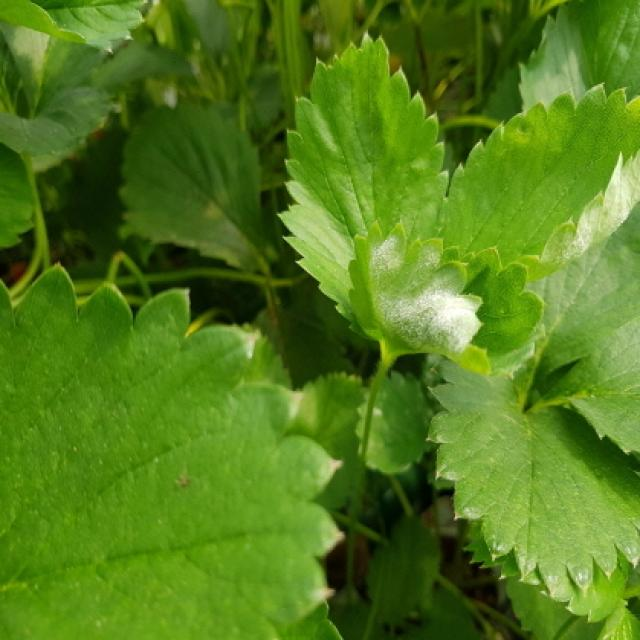Powdery Mildew Leaf: (442, 81, 640, 281), (345, 219, 548, 380)
